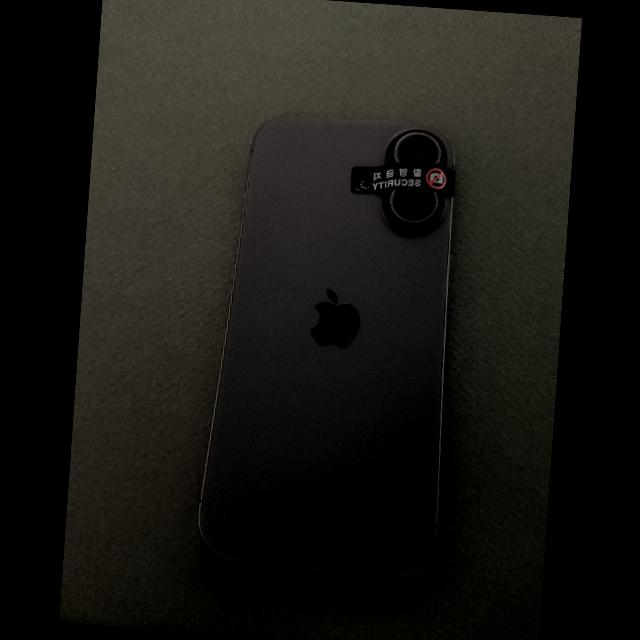lens: (391, 188, 436, 222), (392, 132, 439, 164)
phone: (197, 115, 455, 578)
sticker: (350, 162, 455, 197)
